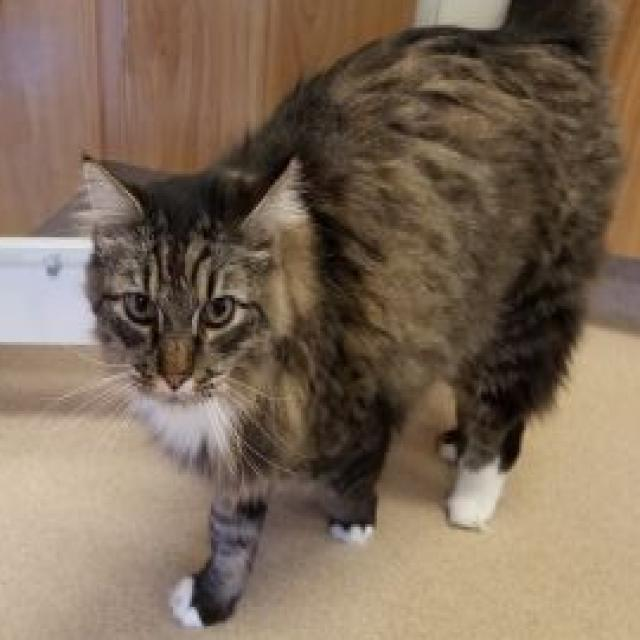Maine Coon: (74, 0, 624, 629)
